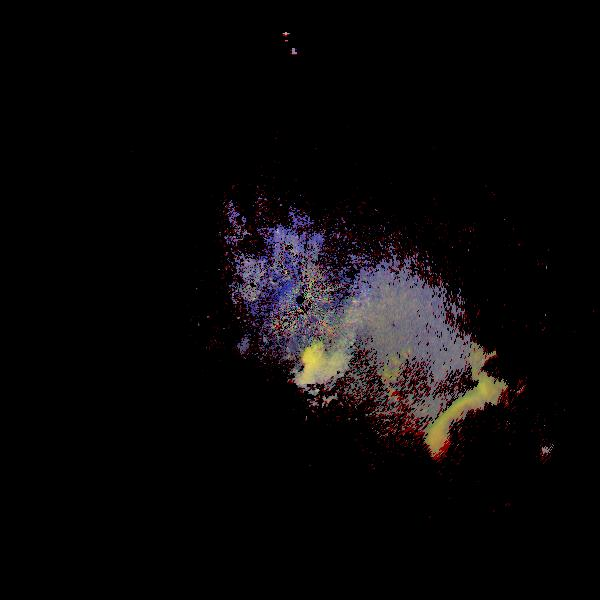roost: (392, 350, 600, 587)
